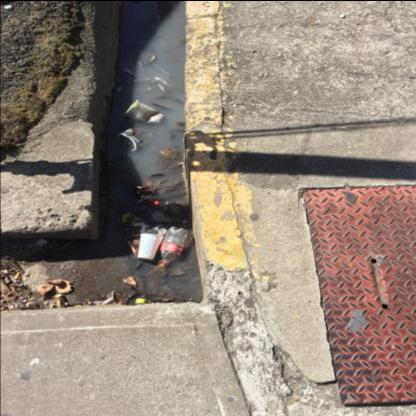Bottle: (149, 200, 158, 206), (135, 298, 146, 302)
Bottle cap: (160, 226, 188, 267)
Cigarette: (14, 272, 20, 278)
Cup: (125, 98, 166, 124), (118, 126, 154, 150), (137, 233, 164, 260)
Lid: (139, 52, 155, 64)
Plastic bag - wrapper: (128, 203, 186, 237)
Straw: (150, 60, 171, 76)
